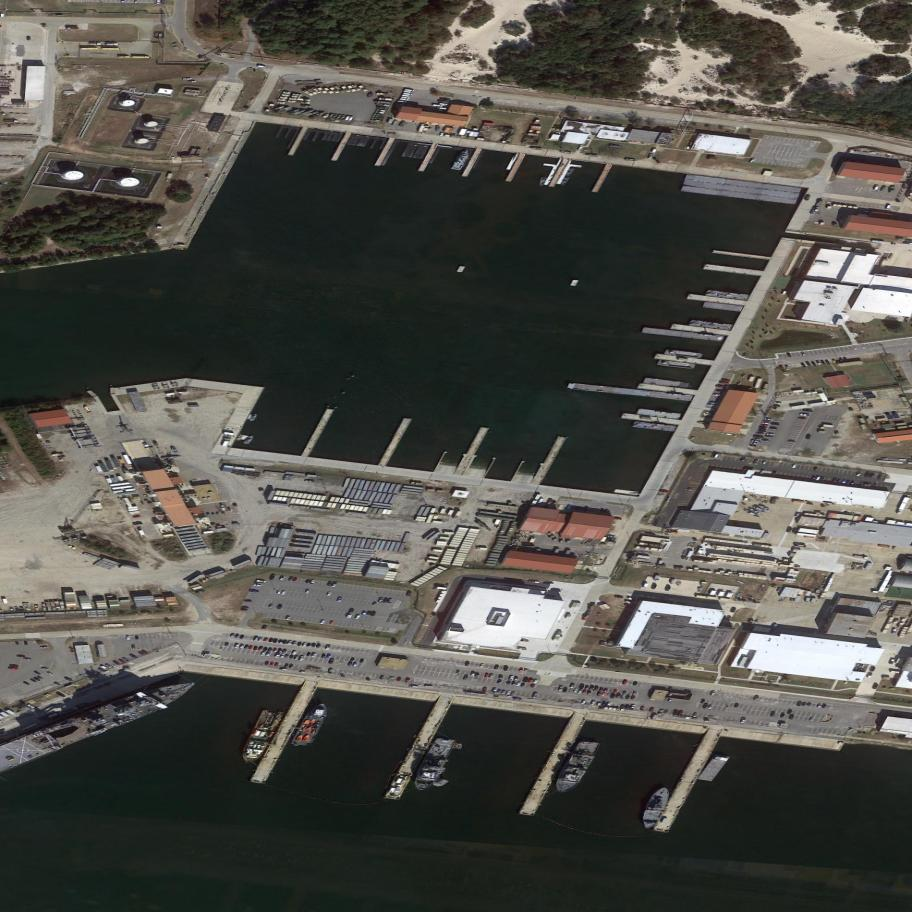large-vehicle: (105, 42, 120, 46), (130, 56, 152, 58), (102, 48, 122, 50), (81, 48, 100, 50), (89, 43, 103, 45), (116, 56, 130, 58)
ship: (407, 731, 460, 800), (551, 733, 602, 801), (236, 703, 286, 770), (288, 696, 335, 755), (567, 382, 694, 402), (638, 781, 673, 834), (697, 748, 732, 787), (641, 327, 724, 342), (643, 377, 691, 389), (451, 146, 471, 173), (689, 319, 734, 331), (702, 301, 744, 313), (632, 421, 677, 432), (637, 408, 682, 419), (705, 290, 750, 300), (664, 349, 704, 359), (657, 360, 697, 370), (243, 432, 256, 447), (743, 509, 762, 519), (248, 411, 260, 425), (756, 502, 771, 511), (748, 507, 762, 516), (751, 504, 765, 513), (295, 732, 305, 744), (308, 717, 318, 729), (302, 733, 311, 744), (607, 144, 624, 149), (560, 150, 576, 155), (530, 146, 543, 151), (583, 153, 599, 157), (306, 727, 313, 735), (310, 729, 318, 735), (624, 158, 638, 161)
small-vehicle: (334, 84, 347, 95), (329, 85, 341, 96), (323, 86, 336, 96), (359, 83, 370, 94), (347, 83, 358, 94), (311, 85, 323, 95), (302, 89, 315, 98), (318, 86, 329, 96), (341, 84, 352, 94), (307, 87, 319, 96), (545, 497, 555, 507), (397, 119, 407, 129), (26, 702, 37, 711), (352, 83, 362, 92), (712, 451, 721, 461), (814, 358, 824, 367), (822, 357, 832, 366), (63, 675, 74, 683), (128, 653, 140, 660), (259, 649, 268, 658), (112, 659, 122, 667), (117, 657, 127, 665), (104, 662, 114, 670), (33, 669, 43, 677), (269, 572, 277, 582), (354, 612, 362, 622), (101, 664, 110, 672), (97, 665, 106, 673), (298, 654, 306, 663), (311, 651, 319, 660), (873, 681, 881, 690), (664, 583, 672, 592), (702, 701, 710, 710), (331, 580, 339, 589), (805, 359, 813, 368), (22, 680, 32, 687), (52, 680, 62, 687), (253, 635, 261, 643), (469, 671, 477, 679), (266, 646, 274, 654), (752, 457, 760, 465), (287, 575, 295, 583), (347, 607, 355, 615), (785, 351, 793, 359), (799, 361, 807, 369), (810, 359, 818, 367), (819, 358, 827, 366), (804, 193, 811, 202), (121, 656, 130, 663), (141, 649, 150, 656), (46, 670, 55, 677), (33, 675, 42, 682), (889, 185, 896, 194), (293, 653, 300, 662), (345, 114, 352, 123), (333, 112, 340, 121), (864, 470, 871, 479), (869, 470, 876, 479), (304, 577, 311, 586), (578, 143, 585, 152), (29, 678, 39, 684), (297, 98, 312, 102), (377, 100, 392, 104), (138, 650, 146, 657), (289, 653, 296, 661), (239, 643, 246, 651), (253, 644, 260, 652), (257, 645, 264, 653), (377, 103, 391, 107), (856, 470, 863, 478), (537, 497, 544, 505), (508, 674, 515, 682), (889, 657, 896, 665), (753, 694, 760, 702), (658, 708, 665, 716), (663, 708, 670, 716), (678, 709, 685, 717), (869, 665, 876, 673), (791, 462, 798, 470), (279, 574, 286, 582), (277, 603, 284, 611), (739, 455, 747, 462), (481, 685, 488, 693), (749, 157, 757, 164), (800, 350, 807, 358), (256, 579, 267, 584), (803, 408, 814, 413), (375, 109, 388, 113), (372, 115, 385, 119), (772, 403, 782, 408), (229, 632, 236, 639), (239, 633, 246, 640), (287, 639, 294, 646), (348, 115, 355, 122), (336, 114, 343, 121), (569, 683, 576, 690), (602, 687, 609, 694), (522, 676, 529, 683), (796, 700, 803, 707), (566, 504, 573, 511), (770, 711, 777, 718), (327, 580, 334, 587), (326, 591, 333, 598), (337, 596, 344, 603), (873, 184, 880, 191), (885, 204, 892, 211), (262, 636, 270, 642), (283, 638, 289, 646), (292, 639, 298, 647), (297, 640, 303, 648), (37, 675, 45, 681), (7, 667, 19, 671), (274, 653, 282, 659), (329, 657, 335, 665), (244, 643, 250, 651), (249, 644, 255, 652), (436, 106, 448, 110), (404, 89, 416, 93), (380, 97, 392, 101), (372, 117, 384, 121), (322, 113, 330, 119), (563, 686, 569, 694), (605, 534, 617, 538), (625, 703, 631, 711), (310, 578, 316, 586), (648, 153, 654, 161), (881, 185, 887, 193), (760, 460, 769, 465), (9, 664, 20, 668), (16, 655, 27, 659), (292, 93, 303, 97), (249, 589, 260, 593), (751, 437, 762, 441), (799, 413, 810, 417), (713, 393, 724, 397), (235, 632, 241, 639), (258, 636, 264, 643), (280, 652, 286, 659), (341, 114, 347, 121), (329, 112, 335, 119), (297, 101, 311, 104), (474, 672, 481, 678), (532, 693, 539, 699), (558, 686, 565, 692), (816, 475, 822, 482), (891, 629, 898, 635), (533, 678, 539, 685), (651, 583, 658, 589), (809, 716, 815, 723), (630, 704, 637, 710), (707, 704, 714, 710), (700, 698, 707, 704), (493, 664, 500, 670), (281, 589, 287, 596), (435, 126, 442, 132), (407, 590, 413, 597), (286, 615, 292, 622), (320, 619, 326, 626), (329, 620, 335, 627), (838, 356, 844, 363), (395, 677, 403, 682), (401, 96, 411, 100), (282, 91, 292, 95), (674, 709, 679, 717), (346, 614, 354, 619), (719, 381, 729, 385), (41, 667, 50, 671), (328, 668, 334, 674), (408, 685, 420, 688), (463, 674, 469, 680), (347, 661, 353, 667), (326, 644, 332, 650), (263, 646, 269, 652), (327, 653, 333, 659), (353, 662, 359, 668), (432, 104, 444, 107), (374, 113, 386, 116), (280, 96, 289, 100), (813, 466, 819, 472), (867, 672, 873, 678), (789, 714, 795, 720), (581, 699, 587, 705), (590, 700, 596, 706), (668, 697, 674, 703), (710, 690, 716, 696), (693, 712, 699, 718), (244, 599, 253, 603), (498, 674, 504, 680), (496, 688, 502, 694), (763, 421, 772, 425), (759, 427, 768, 431), (767, 432, 776, 436), (769, 426, 778, 430), (269, 636, 274, 643), (405, 678, 412, 683), (455, 670, 462, 675), (350, 657, 357, 662), (479, 663, 486, 668), (529, 683, 536, 688), (578, 688, 583, 695), (578, 684, 585, 689), (611, 692, 616, 699), (516, 681, 521, 688), (513, 676, 520, 681), (811, 475, 818, 480), (832, 478, 839, 483), (621, 693, 626, 700), (801, 701, 808, 706), (602, 700, 607, 707), (269, 603, 274, 610), (294, 576, 299, 583), (39, 646, 50, 649), (399, 98, 410, 101), (402, 93, 413, 96), (403, 91, 414, 94), (281, 94, 292, 97), (287, 100, 298, 103), (715, 385, 726, 388), (278, 639, 284, 644), (302, 642, 308, 647), (285, 653, 290, 659), (265, 652, 271, 657), (465, 661, 471, 666), (235, 643, 240, 649), (359, 658, 365, 663), (376, 111, 386, 114), (257, 65, 267, 68), (278, 99, 288, 102), (187, 80, 197, 83), (485, 673, 491, 678), (520, 682, 526, 687), (594, 685, 600, 690), (837, 478, 842, 484), (841, 479, 847, 484), (807, 702, 812, 708), (734, 703, 740, 708), (704, 717, 710, 722), (632, 695, 637, 701), (623, 679, 628, 685), (639, 706, 645, 711), (650, 706, 655, 712), (741, 718, 747, 723), (780, 713, 786, 718), (277, 590, 283, 595), (253, 584, 263, 587), (305, 589, 310, 595), (490, 674, 496, 679), (498, 679, 504, 684), (492, 688, 498, 693), (506, 691, 512, 696), (371, 611, 376, 617), (380, 597, 385, 603), (384, 597, 389, 603), (389, 598, 394, 604), (709, 402, 719, 405), (772, 402, 782, 405), (750, 440, 760, 443), (750, 442, 760, 445), (651, 148, 657, 153), (264, 661, 271, 665), (371, 602, 378, 606), (23, 658, 32, 661), (425, 685, 434, 688), (439, 103, 448, 106), (241, 606, 250, 609), (764, 417, 773, 420), (761, 424, 770, 427), (758, 430, 767, 433), (756, 432, 765, 435), (762, 439, 771, 442), (132, 645, 137, 650), (273, 638, 278, 643), (15, 641, 20, 646), (275, 662, 280, 667), (317, 643, 322, 648), (279, 648, 284, 653), (585, 685, 590, 690), (529, 678, 534, 683), (589, 685, 594, 690), (601, 692, 606, 697), (626, 694, 631, 699), (817, 703, 822, 708), (822, 704, 827, 709), (633, 681, 638, 686), (597, 701, 602, 706), (621, 704, 626, 709), (501, 690, 506, 695), (367, 611, 372, 616), (23, 641, 29, 645), (289, 664, 295, 668), (292, 651, 298, 655), (307, 651, 311, 657), (396, 101, 408, 103), (582, 690, 588, 694), (616, 694, 622, 698), (607, 702, 613, 706), (504, 665, 508, 671), (506, 681, 512, 685), (807, 433, 811, 439), (401, 95, 412, 97), (127, 636, 132, 640), (135, 636, 140, 640), (312, 643, 317, 647), (270, 662, 275, 666), (285, 663, 289, 668), (366, 677, 371, 681), (225, 642, 230, 646), (274, 648, 278, 653), (283, 649, 287, 654), (322, 654, 327, 658), (277, 102, 287, 104), (183, 78, 193, 80), (291, 96, 301, 98), (587, 690, 592, 694), (622, 690, 627, 694), (512, 681, 517, 685), (821, 476, 825, 481), (845, 480, 850, 484), (851, 480, 855, 485), (633, 691, 638, 695), (362, 611, 367, 615), (759, 426, 769, 428), (785, 366, 790, 370), (832, 359, 837, 363), (289, 98, 298, 100), (240, 609, 249, 611), (765, 435, 774, 437), (707, 404, 716, 406), (380, 675, 384, 679), (574, 689, 578, 693), (598, 691, 602, 695), (764, 420, 772, 422), (722, 380, 730, 382), (600, 687, 603, 692), (308, 643, 311, 647), (614, 689, 617, 693)
storage-tank: (118, 177, 140, 187), (62, 171, 85, 180), (119, 100, 137, 107), (145, 121, 159, 128), (136, 138, 149, 144)
